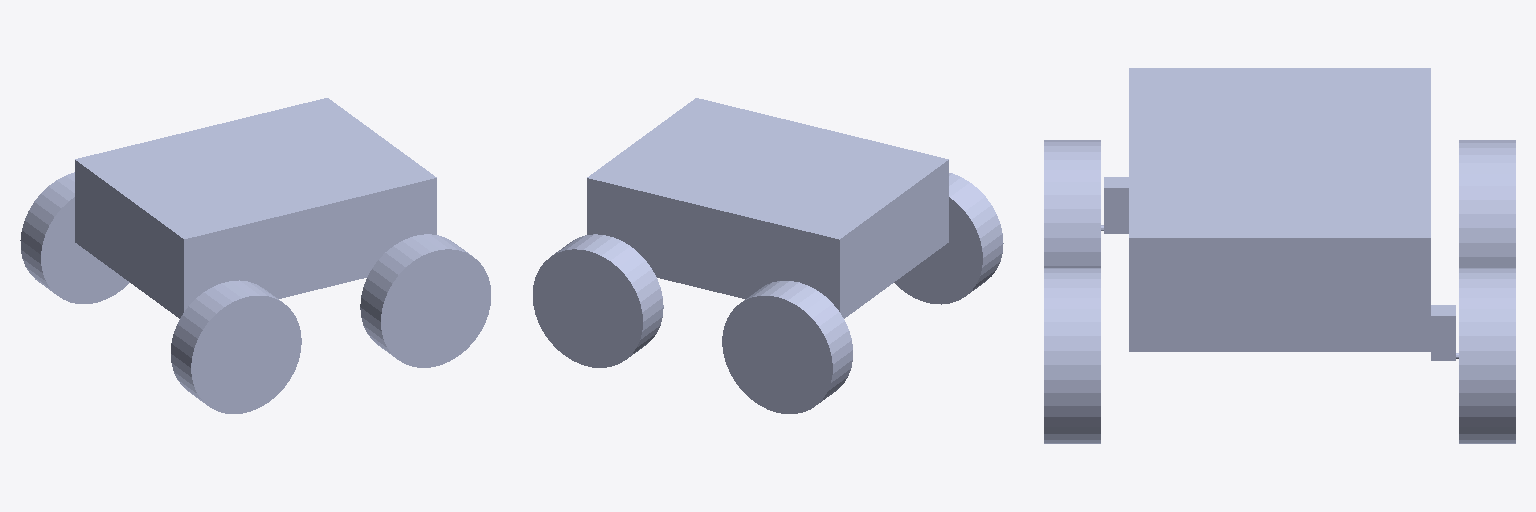
The robot description file, URDF, robot "my_robot":
<!-- <?xml version="1.0" encoding="utf-8"?> -->
<!-- This URDF was automatically created by SolidWorks to URDF Exporter! Originally created by Stephen Brawner (brawner@gmail.com) 
     Commit Version: 1.6.0-4-g7f85cfe  Build Version: 1.6.7995.38578
     For more information, please see http://wiki.ros.org/sw_urdf_exporter -->
<robot
  name="my_robot">

  <!-- Base footprint (ground reference) -->
  <link name="base_footprint">
    <visual>
      <geometry>
        <box size="0.001 0.001 0.001"/>
      </geometry>
    </visual>
  </link>

  <!-- Fixed joint from base_footprint to base_link -->
  <joint name="base_footprint_joint" type="fixed">
    <parent link="base_footprint"/>
    <child link="base_link"/>
    <origin xyz="0 0 0.05" rpy="0 0 0"/>
  </joint>

  <link
    name="base_link">
    <inertial>
      <origin
        xyz="0 0 0.05"
        rpy="0 0 0" />
      <mass
        value="7.68" />
      <inertia
        ixx="0.043264"
        ixy="-2.7663E-18"
        ixz="-5.8775E-36"
        iyy="0.071936"
        iyz="-7.953E-35"
        izz="0.1024" />
    </inertial>
    <visual>
      <origin
        xyz="0 0 0"
        rpy="0 0 0" />
      <geometry>
        <mesh
          filename="package://my_robot/meshes/base_link.STL" />
      </geometry>
      <material
        name="">
        <color
          rgba="0.79216 0.81961 0.93333 1" />
      </material>
    </visual>
    <collision>
      <origin
        xyz="0 0 0"
        rpy="0 0 0" />
      <geometry>
        <mesh
          filename="package://my_robot/meshes/base_link.STL" />
      </geometry>
    </collision>
  </link>
  <link
    name="f_l_s">
    <inertial>
      <origin
        xyz="-5.5511E-17 0.00055205 -0.020526"
        rpy="0 0 0" />
      <mass
        value="0.3" />
      <inertia
        ixx="0.001"
        ixy="-8.6579E-23"
        ixz="1.0006E-22"
        iyy="0.001"
        iyz="1.7666E-07"
        izz="0.001" />
    </inertial>
    <visual>
      <origin
        xyz="0 0 0"
        rpy="0 0 0" />
      <geometry>
        <mesh
          filename="package://my_robot/meshes/f_l_s.STL" />
      </geometry>
      <material
        name="">
        <color
          rgba="0.79216 0.81961 0.93333 1" />
      </material>
    </visual>
    <collision>
      <origin
        xyz="0 0 0"
        rpy="0 0 0" />
      <geometry>
        <mesh
          filename="package://my_robot/meshes/f_l_s.STL" />
      </geometry>
    </collision>
  </link>
  <joint
    name="flsjoint"
    type="prismatic">
    <origin
      xyz="0.12 0.13 0.01822"
      rpy="0 0 0" />
    <parent
      link="base_link" />
    <child
      link="f_l_s" />
    <axis
      xyz="0 0 1" />
    <limit
      lower="0"
      upper="0.02"
      effort="50"
      velocity="1" />
    <dynamics
      damping="5"
      friction="0" />
  </joint>
  <link
    name="f_l_w">
    <inertial>
      <origin
        xyz="0 -0.022493 0"
        rpy="0 0 0" />
      <mass
        value="0.69233" />
      <inertia
        ixx="0.00096541"
        ixy="-2.1293E-23"
        ixz="-2.5388E-20"
        iyy="0.0016972"
        iyz="1.0189E-20"
        izz="0.00096541" />
    </inertial>
    <visual>
      <origin
        xyz="0 0 0"
        rpy="0 0 0" />
      <geometry>
        <mesh
          filename="package://my_robot/meshes/f_l_w.STL" />
      </geometry>
      <material
        name="">
        <color
          rgba="0.79216 0.81961 0.93333 1" />
      </material>
    </visual>
    <collision>
      <origin
        xyz="0 0 0"
        rpy="0 0 0" />
      <geometry>
        <mesh
          filename="package://my_robot/meshes/f_l_w.STL" />
      </geometry>
    </collision>
  </link>
  <joint
    name="flwjoint"
    type="continuous">
    <origin
      xyz="0 0.057 -0.04"
      rpy="0 0 0" />
    <parent
      link="f_l_s" />
    <child
      link="f_l_w" />
    <axis
      xyz="0 1 0" />
    <limit
      effort="15"
      velocity="8" />
    <dynamics
      damping="0.6"
      friction="0.15" />
  </joint>
  <link
    name="r_l_s">
    <inertial>
      <origin
        xyz="-1.3878E-17 0.00055205 -0.020526"
        rpy="0 0 0" />
      <mass
        value="0.3" />
      <inertia
        ixx="0.001"
        ixy="-3.3571E-23"
        ixz="-1.0438E-23"
        iyy="0.001"
        iyz="1.7666E-07"
        izz="0.001" />
    </inertial>
    <visual>
      <origin
        xyz="0 0 0"
        rpy="0 0 0" />
      <geometry>
        <mesh
          filename="package://my_robot/meshes/r_l_s.STL" />
      </geometry>
      <material
        name="">
        <color
          rgba="0.79216 0.81961 0.93333 1" />
      </material>
    </visual>
    <collision>
      <origin
        xyz="0 0 0"
        rpy="0 0 0" />
      <geometry>
        <mesh
          filename="package://my_robot/meshes/r_l_s.STL" />
      </geometry>
    </collision>
  </link>
  <joint
    name="rlsjoint"
    type="prismatic">
    <origin
      xyz="-0.12 0.13 0.01822"
      rpy="0 0 0" />
    <parent
      link="base_link" />
    <child
      link="r_l_s" />
    <axis
      xyz="0 0 1" />
    <limit
      lower="0"
      upper="0.02"
      effort="50"
      velocity="1" />
    <dynamics
      damping="5"
      friction="0" />
  </joint>
  <link
    name="r_l_w">
    <inertial>
      <origin
        xyz="-1.3878E-17 -0.022493 0"
        rpy="0 0 0" />
      <mass
        value="0.69233" />
      <inertia
        ixx="0.00096541"
        ixy="4.042E-20"
        ixz="1.5483E-20"
        iyy="0.0016972"
        iyz="1.4413E-23"
        izz="0.00096541" />
    </inertial>
    <visual>
      <origin
        xyz="0 0 0"
        rpy="0 0 0" />
      <geometry>
        <mesh
          filename="package://my_robot/meshes/r_l_w.STL" />
      </geometry>
      <material
        name="">
        <color
          rgba="0.79216 0.81961 0.93333 1" />
      </material>
    </visual>
    <collision>
      <origin
        xyz="0 0 0"
        rpy="0 0 0" />
      <geometry>
        <mesh
          filename="package://my_robot/meshes/r_l_w.STL" />
      </geometry>
    </collision>
  </link>
  <joint
    name="rlwjoint"
    type="continuous">
    <origin
      xyz="0 0.057 -0.04"
      rpy="0 0 0" />
    <parent
      link="r_l_s" />
    <child
      link="r_l_w" />
    <axis
      xyz="0 1 0" />
    <limit
      effort="15"
      velocity="8" />
    <dynamics
      damping="0.6"
      friction="0.15" />
  </joint>
  <link
    name="f_r_s">
    <inertial>
      <origin
        xyz="0 -0.00055205 -0.020526"
        rpy="0 0 0" />
      <mass
        value="0.3" />
      <inertia
        ixx="0.001"
        ixy="-5.3065E-23"
        ixz="-2.5662E-22"
        iyy="0.001"
        iyz="-1.7666E-07"
        izz="0.001" />
    </inertial>
    <visual>
      <origin
        xyz="0 0 0"
        rpy="0 0 0" />
      <geometry>
        <mesh
          filename="package://my_robot/meshes/f_r_s.STL" />
      </geometry>
      <material
        name="">
        <color
          rgba="0.79216 0.81961 0.93333 1" />
      </material>
    </visual>
    <collision>
      <origin
        xyz="0 0 0"
        rpy="0 0 0" />
      <geometry>
        <mesh
          filename="package://my_robot/meshes/f_r_s.STL" />
      </geometry>
    </collision>
  </link>
  <joint
    name="frsjoint"
    type="prismatic">
    <origin
      xyz="0.12 -0.13 0.01822"
      rpy="0 0 0" />
    <parent
      link="base_link" />
    <child
      link="f_r_s" />
    <axis
      xyz="0 0 1" />
    <limit
      lower="0"
      upper="0.02"
      effort="50"
      velocity="1" />
    <dynamics
      damping="5"
      friction="0" />
  </joint>
  <link
    name="f_r_w">
    <inertial>
      <origin
        xyz="0 0.022493 0"
        rpy="0 0 0" />
      <mass
        value="0.69233" />
      <inertia
        ixx="0.00096541"
        ixy="-1.0007E-20"
        ixz="7.9276E-20"
        iyy="0.0016972"
        iyz="-2.0113E-20"
        izz="0.00096541" />
    </inertial>
    <visual>
      <origin
        xyz="0 0 0"
        rpy="0 0 0" />
      <geometry>
        <mesh
          filename="package://my_robot/meshes/f_r_w.STL" />
      </geometry>
      <material
        name="">
        <color
          rgba="0.79216 0.81961 0.93333 1" />
      </material>
    </visual>
    <collision>
      <origin
        xyz="0 0 0"
        rpy="0 0 0" />
      <geometry>
        <mesh
          filename="package://my_robot/meshes/f_r_w.STL" />
      </geometry>
    </collision>
  </link>
  <joint
    name="frwjoint"
    type="continuous">
    <origin
      xyz="0 -0.057 -0.04"
      rpy="0 0 0" />
    <parent
      link="f_r_s" />
    <child
      link="f_r_w" />
    <axis
      xyz="0 1 0" />
    <limit
      effort="15"
      velocity="8" />
    <dynamics
      damping="0.6"
      friction="0.15" />
  </joint>
  <link
    name="r_r_s">
    <inertial>
      <origin
        xyz="0 -0.00055205 -0.020526"
        rpy="0 0 0" />
      <mass
        value="0.3" />
      <inertia
        ixx="0.001"
        ixy="-6.2652E-24"
        ixz="-3.0969E-22"
        iyy="0.001"
        iyz="-1.7666E-07"
        izz="0.001" />
    </inertial>
    <visual>
      <origin
        xyz="0 0 0"
        rpy="0 0 0" />
      <geometry>
        <mesh
          filename="package://my_robot/meshes/r_r_s.STL" />
      </geometry>
      <material
        name="">
        <color
          rgba="0.79216 0.81961 0.93333 1" />
      </material>
    </visual>
    <collision>
      <origin
        xyz="0 0 0"
        rpy="0 0 0" />
      <geometry>
        <mesh
          filename="package://my_robot/meshes/r_r_s.STL" />
      </geometry>
    </collision>
  </link>
  <joint
    name="rrsjoint"
    type="prismatic">
    <origin
      xyz="-0.12 -0.13 0.01822"
      rpy="0 0 0" />
    <parent
      link="base_link" />
    <child
      link="r_r_s" />
    <axis
      xyz="0 0 1" />
    <limit
      lower="0"
      upper="0.02"
      effort="50"
      velocity="1" />
    <dynamics
      damping="5"
      friction="0" />
  </joint>
  <link
    name="r_r_w">
    <inertial>
      <origin
        xyz="1.3878E-17 0.022493 0"
        rpy="0 0 0" />
      <mass
        value="0.69233" />
      <inertia
        ixx="0.00096541"
        ixy="-4.5973E-23"
        ixz="-3.6424E-20"
        iyy="0.0016972"
        iyz="5.0775E-21"
        izz="0.00096541" />
    </inertial>
    <visual>
      <origin
        xyz="0 0 0"
        rpy="0 0 0" />
      <geometry>
        <mesh
          filename="package://my_robot/meshes/r_r_w.STL" />
      </geometry>
      <material
        name="">
        <color
          rgba="0.79216 0.81961 0.93333 1" />
      </material>
    </visual>
    <collision>
      <origin
        xyz="0 0 0"
        rpy="0 0 0" />
      <geometry>
        <mesh
          filename="package://my_robot/meshes/r_r_w.STL" />
      </geometry>
    </collision>
  </link>
  <joint
    name="rrwjoint"
    type="continuous">
    <origin
      xyz="0 -0.057 -0.04"
      rpy="0 0 0" />
    <parent
      link="r_r_s" />
    <child
      link="r_r_w" />
    <axis
      xyz="0 1 0" />
    <limit
      effort="15"
      velocity="8" />
    <dynamics
      damping="0.6"
      friction="0.15" />
  </joint>
</robot>

--- Facts derived from the render (not from the file) ---
Views: 3 orthographic renders of the robot side by side, from view 1: azimuth 30°, elevation 25°; view 2: azimuth 150°, elevation 25°; view 3: azimuth 270°, elevation 25°.
Model my_robot with 10 links and 9 joints (4 continuous, 4 prismatic, 1 fixed), rooted at base_footprint, posed every joint at zero.
Links seen in each view (by area): view 1: base_link, f_r_w, r_r_w, r_l_w; view 2: base_link, r_l_w, f_l_w, r_r_w; view 3: base_link, f_l_w, f_r_w, r_l_w, r_r_w, r_r_s, f_l_s.
Boxes of the visible links, x1,y1,x2,y2 form: base_link: [75, 98, 436, 318]; f_r_w: [360, 234, 490, 367]; r_r_w: [171, 280, 301, 413]; r_l_w: [20, 172, 129, 303]; base_link: [587, 98, 948, 318]; r_l_w: [722, 281, 852, 413]; f_l_w: [533, 234, 663, 367]; r_r_w: [894, 173, 1003, 304]; base_link: [1129, 68, 1430, 351]; f_l_w: [1459, 268, 1515, 443]; f_r_w: [1044, 268, 1100, 443]; r_l_w: [1459, 140, 1515, 267]; r_r_w: [1044, 140, 1100, 267]; r_r_s: [1101, 177, 1128, 233]; f_l_s: [1431, 305, 1458, 360].
Bounding box of the posed robot: 0.38 × 0.374 × 0.1918 m (x, y, z).
Meshes: 9 distinct files referenced, 7 mesh visuals loaded (7 binary STL); not drawn: 2 (reference not matched to a file when rendering).
